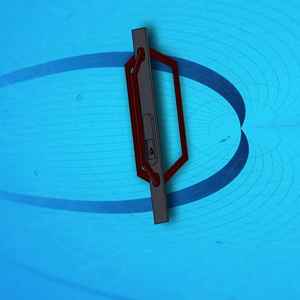submarine: (123, 28, 187, 223)
